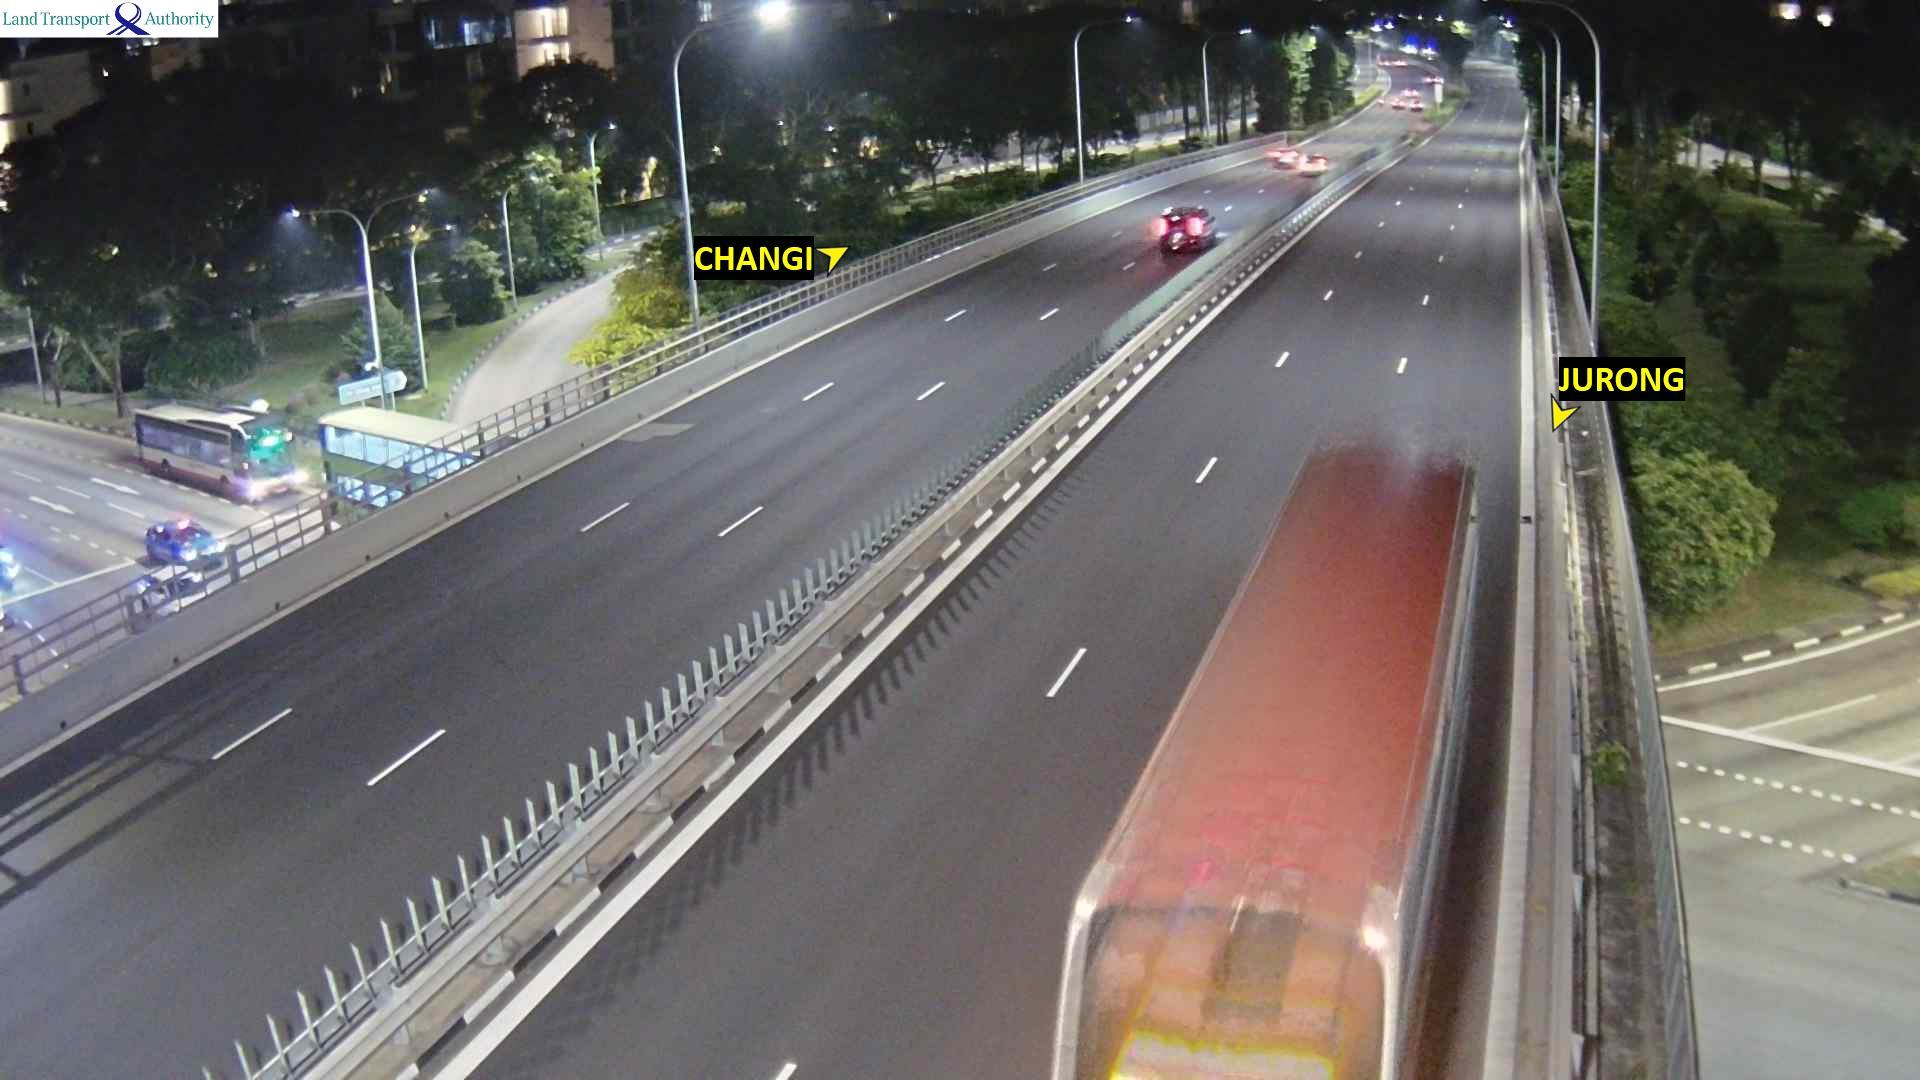incoming: (1040, 877, 1420, 1080)
